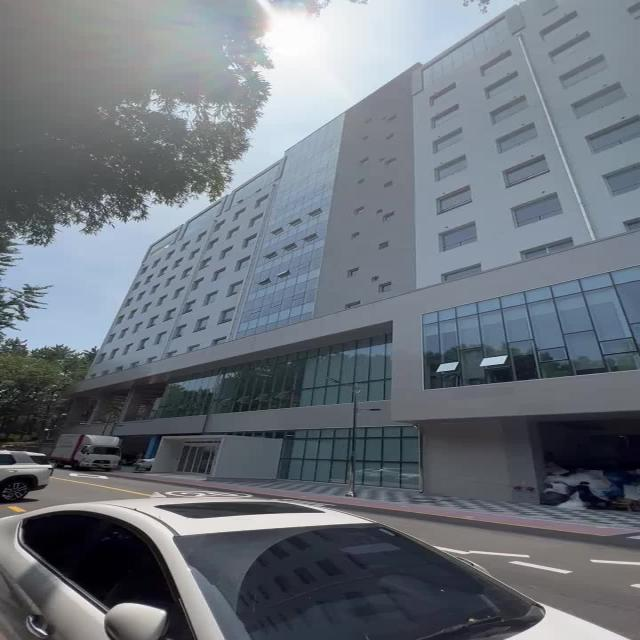building: (112, 205, 640, 445)
